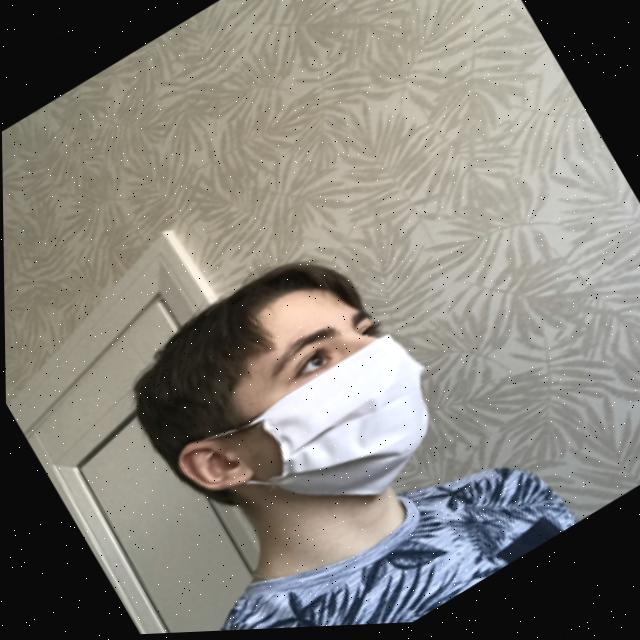Mask: (176, 321, 464, 573)
